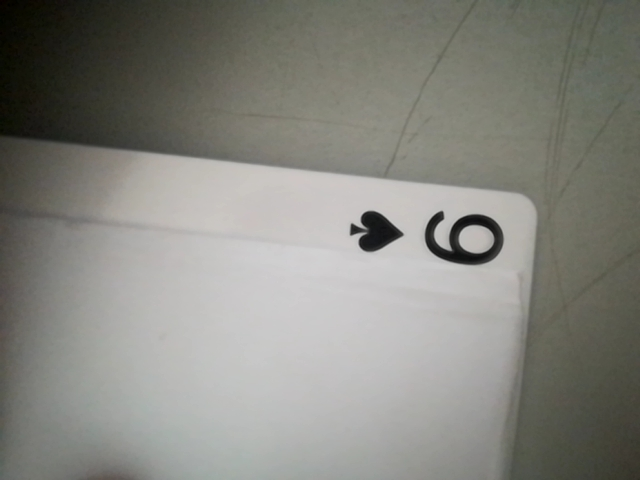ht 9: (333, 197, 527, 272)
